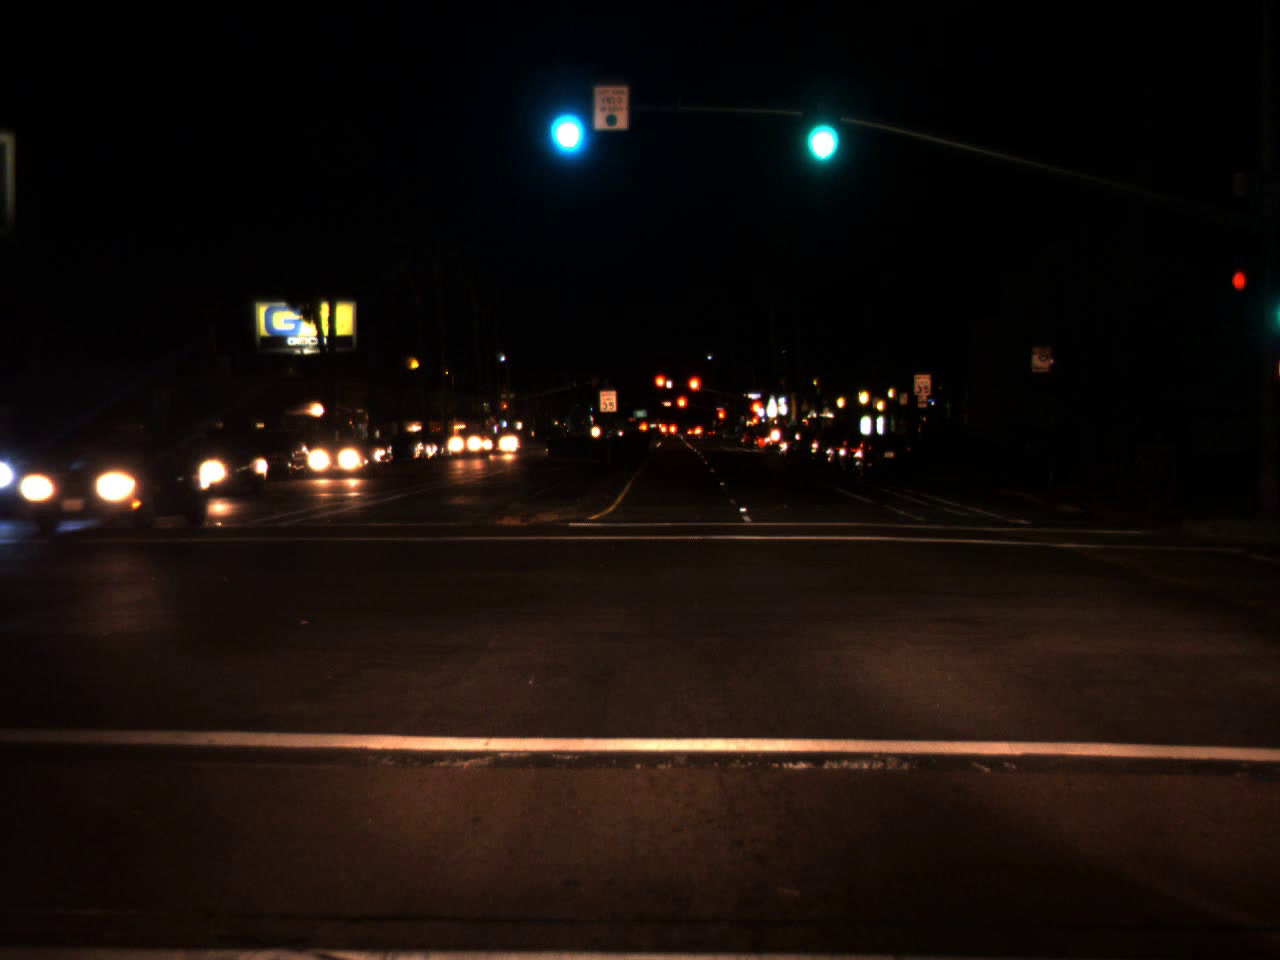go: (542, 76, 587, 163), (797, 84, 842, 171)
stop: (686, 375, 702, 407), (674, 394, 689, 423), (653, 373, 668, 400), (717, 408, 724, 429), (752, 402, 759, 423), (500, 400, 507, 418)
